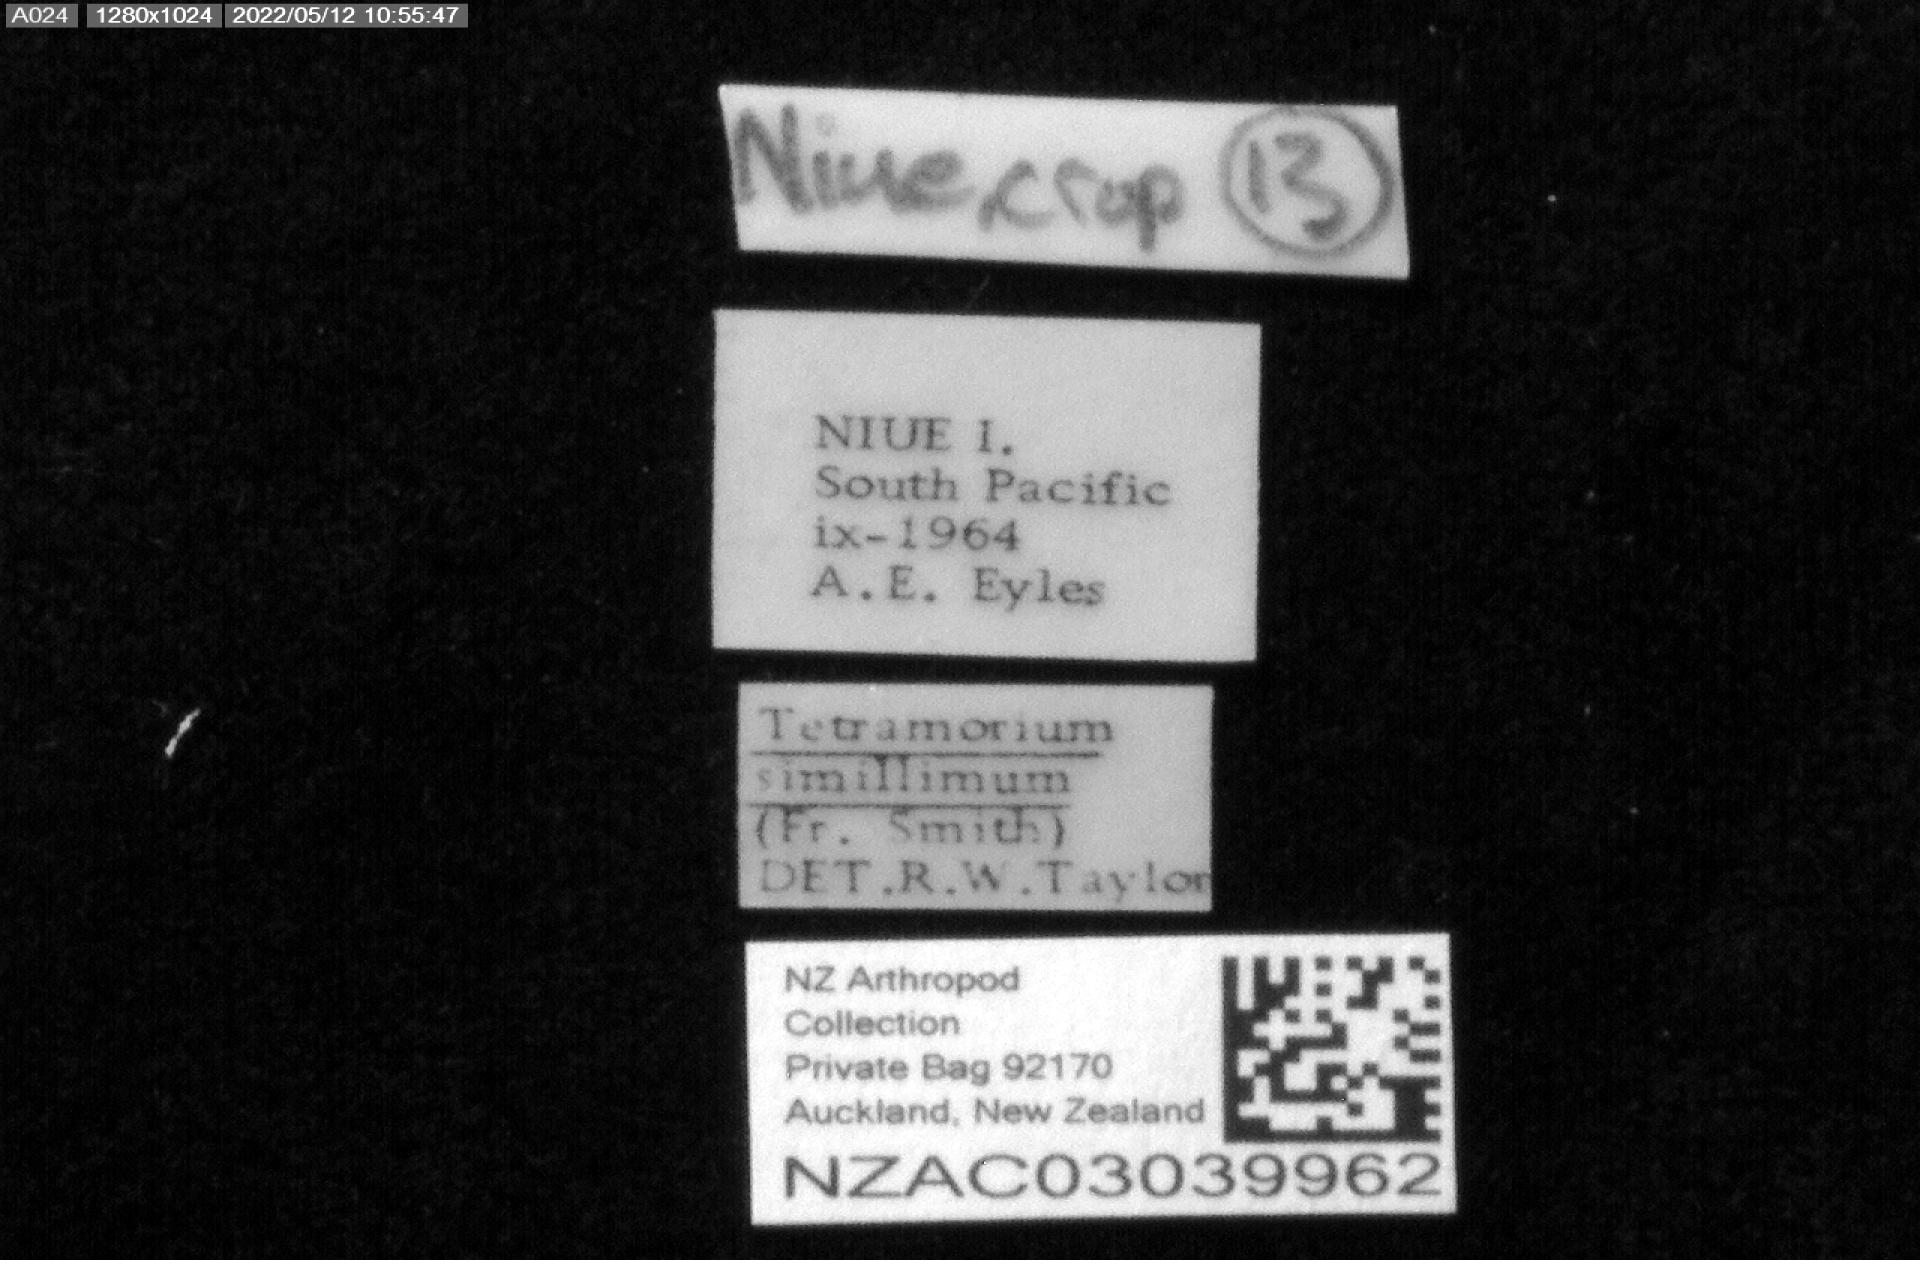hand_label: (720, 84, 1410, 279)
typed_label: (746, 934, 1454, 1226), (713, 310, 1260, 663), (739, 681, 1211, 913)
